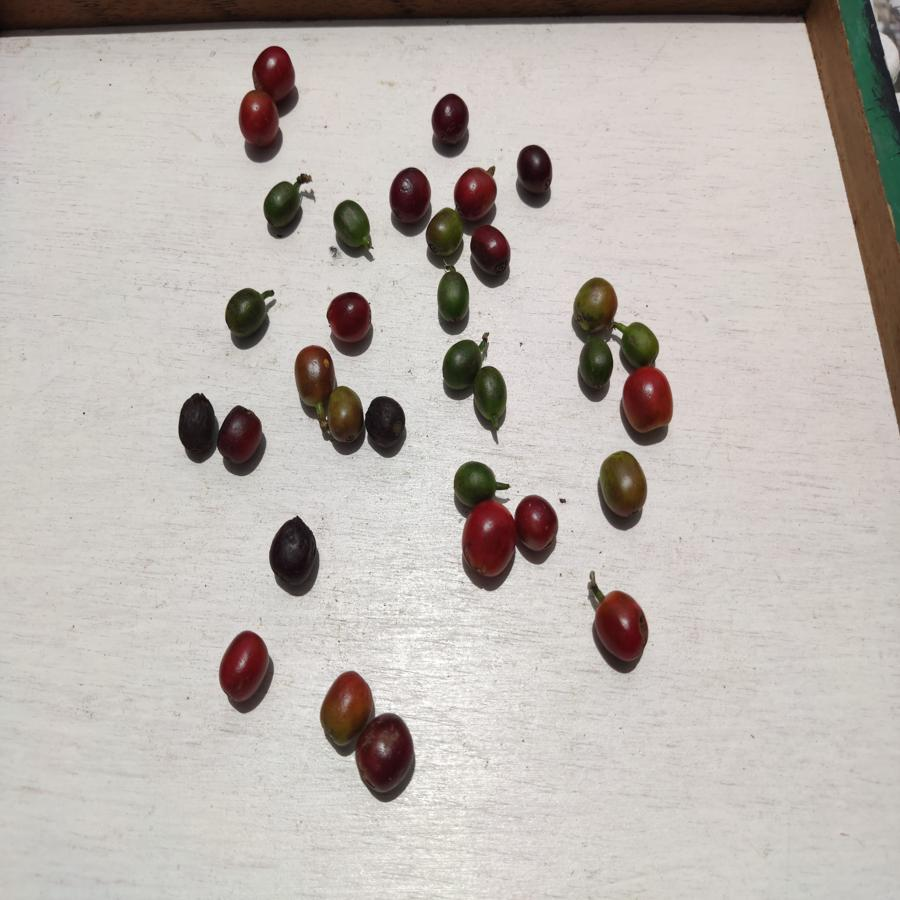Inmaduro: (225, 287, 270, 340), (331, 200, 375, 254), (470, 365, 510, 423), (616, 320, 663, 366), (435, 270, 474, 324), (440, 340, 479, 394), (450, 460, 502, 500), (262, 182, 303, 229), (578, 338, 613, 392)
Maduro: (462, 502, 518, 579), (593, 591, 651, 662), (216, 631, 270, 703), (621, 367, 676, 434), (514, 495, 559, 550), (239, 90, 283, 145), (252, 44, 297, 95), (456, 168, 499, 217)
Pinton: (597, 452, 650, 520), (318, 672, 360, 750), (294, 343, 334, 403), (573, 277, 617, 330), (327, 384, 362, 447), (425, 209, 462, 255)
Sobremaduro: (356, 715, 416, 792), (266, 516, 318, 584), (216, 402, 265, 466), (176, 392, 217, 455), (388, 165, 432, 223), (364, 396, 407, 453), (327, 293, 376, 343), (516, 141, 557, 199), (427, 93, 473, 144), (468, 223, 511, 276)
